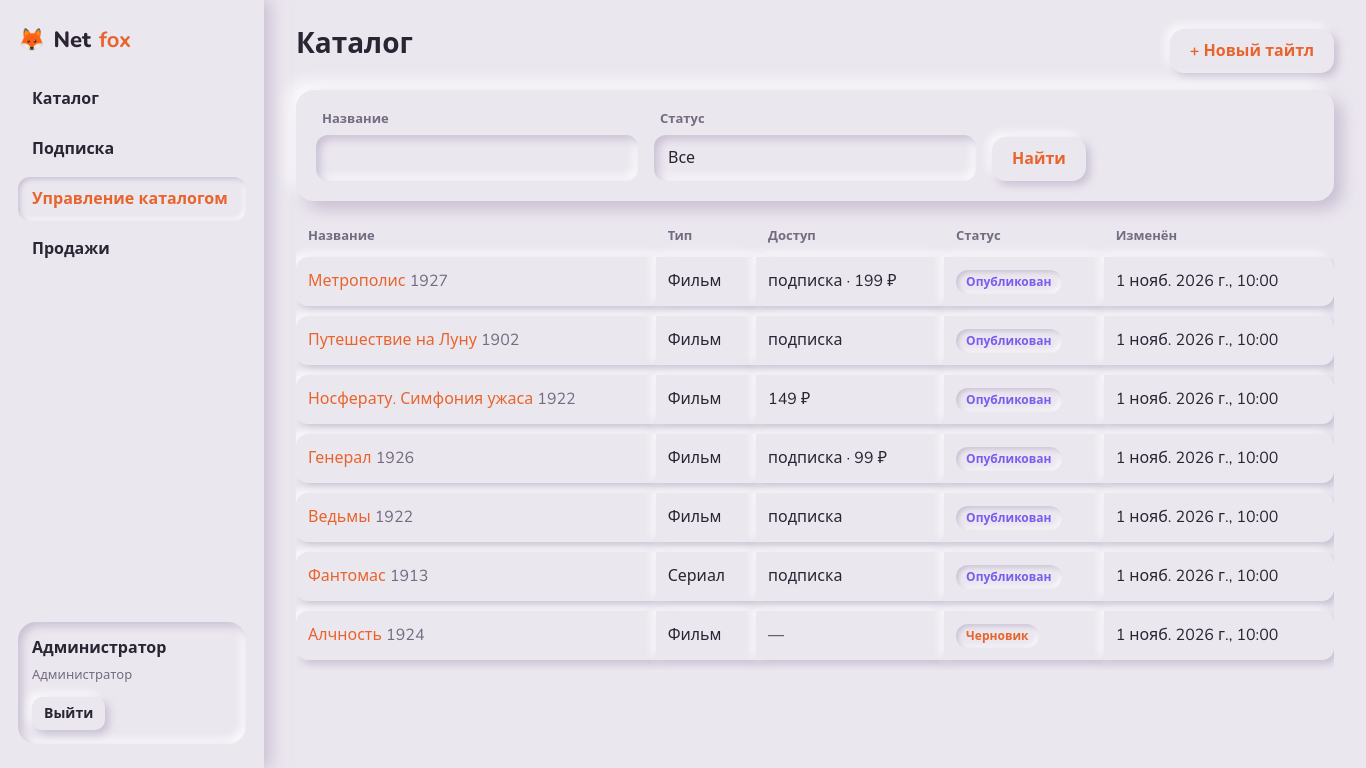
Test: администратор: каталог и продажи › фильтрует тайтлы по статусу
Select "Черновик" in the dropdown labelled "Статус" at (815, 158), box [654,135,976,181]
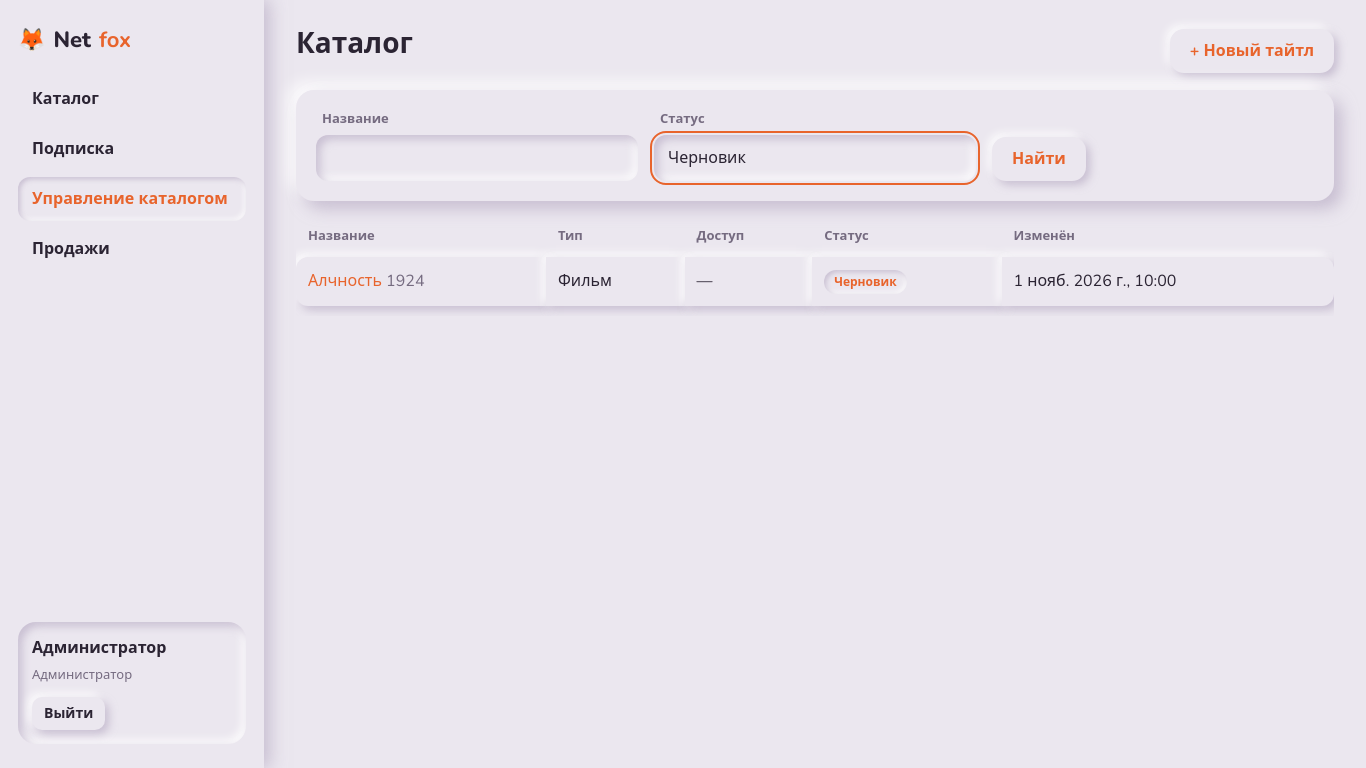
Expected: the number of rows is 2, [296,227,1334,247]; [296,257,1334,306]
